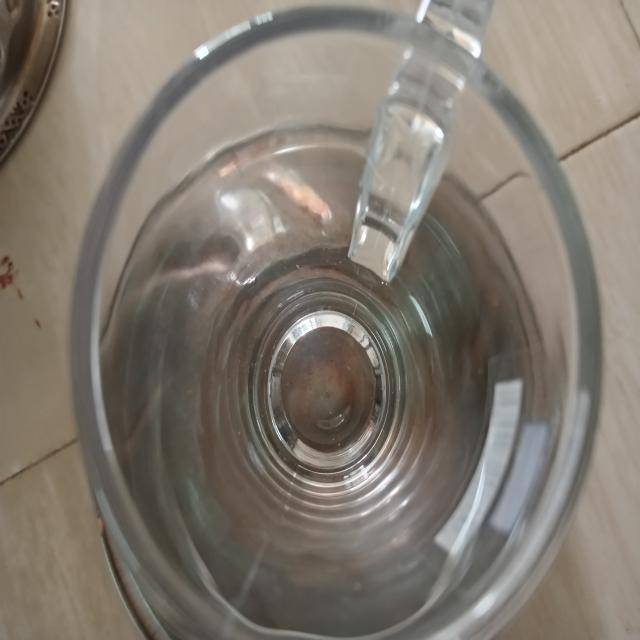glass-VX4N: (68, 5, 604, 640)
